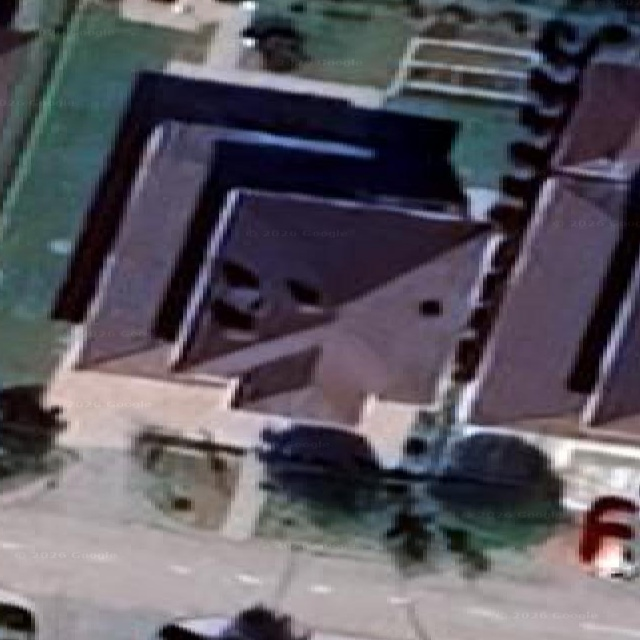car: (154, 604, 310, 639), (580, 495, 639, 579), (0, 590, 35, 639)
